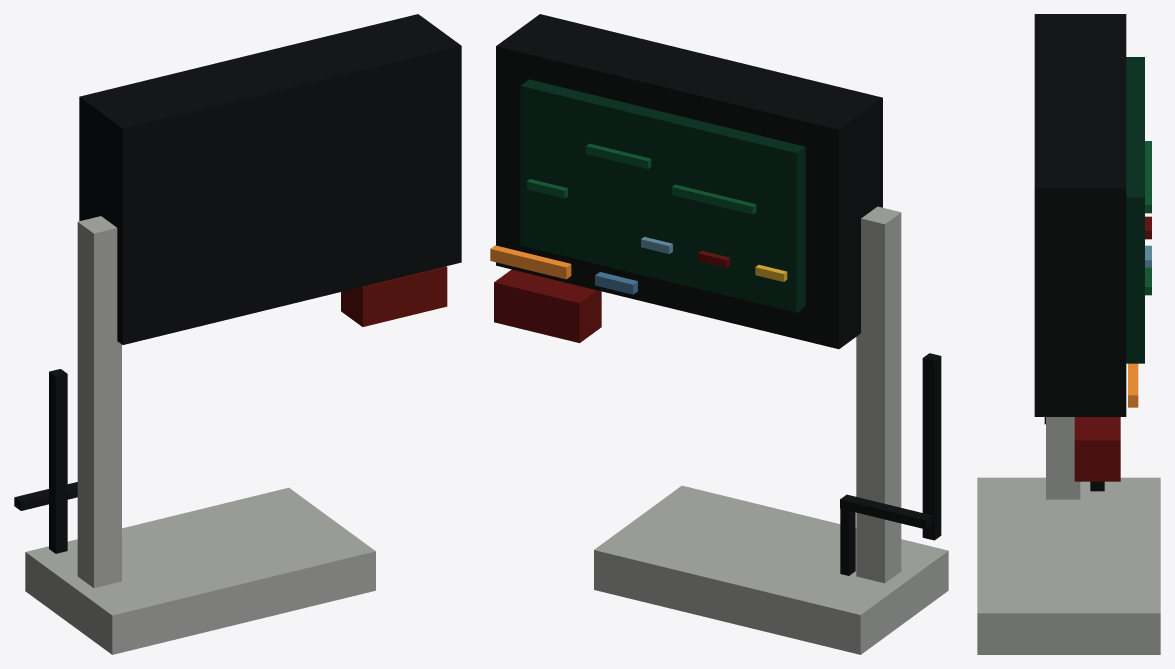
File: patient_monitor.obj
3 views of the same model, side by side, from view 1: azimuth 30°, elevation 25°; view 2: azimuth 150°, elevation 25°; view 3: azimuth 270°, elevation 25° (orthographic). The views are drawn at different scales.
Parts seen in each view (by area): view 1: ward_patient_monitor; view 2: ward_patient_monitor; view 3: ward_patient_monitor.
Part boxes in pixels (x1,y1,x2,y2): ward_patient_monitor: (14, 14, 461, 654); ward_patient_monitor: (490, 14, 948, 654); ward_patient_monitor: (977, 14, 1160, 654).
Size of the model in its own units: 0.89 by 1.01 by 0.32.
